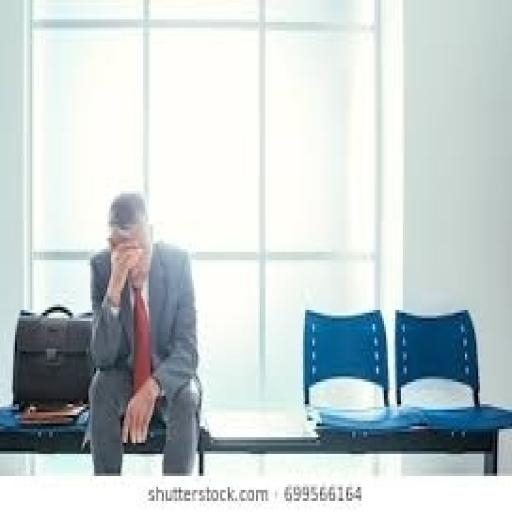sitting: (85, 186, 201, 474)
